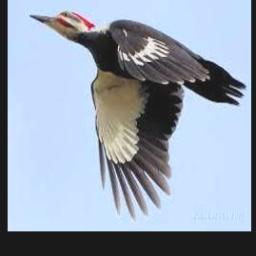Woodpecker: (29, 10, 246, 221)
